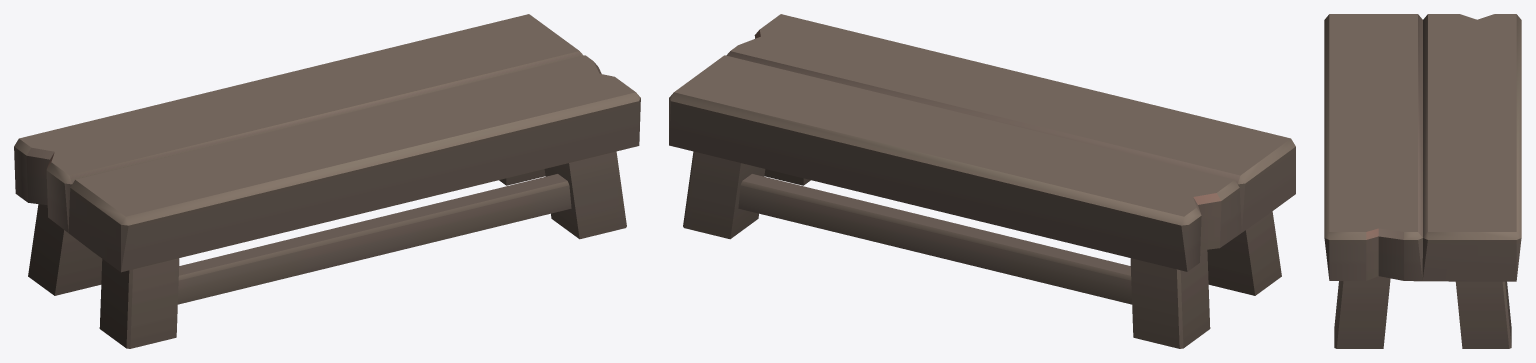
Rendered from bench.glb.
The picture shows the model from 3 angles, left to right: view 1: azimuth 30°, elevation 25°; view 2: azimuth 150°, elevation 25°; view 3: azimuth 270°, elevation 25°; orthographic projection. The views are drawn at different scales.
Parts seen in each view (by area): view 1: bench; view 2: bench; view 3: bench.
Part boxes in pixels (x1,y1,x2,y2): bench: [14, 14, 640, 348]; bench: [669, 14, 1295, 348]; bench: [1324, 14, 1521, 348].
Bounding box in the file's own units: 2 × 0.5001 × 0.7501.
1 material, 1 textured.
